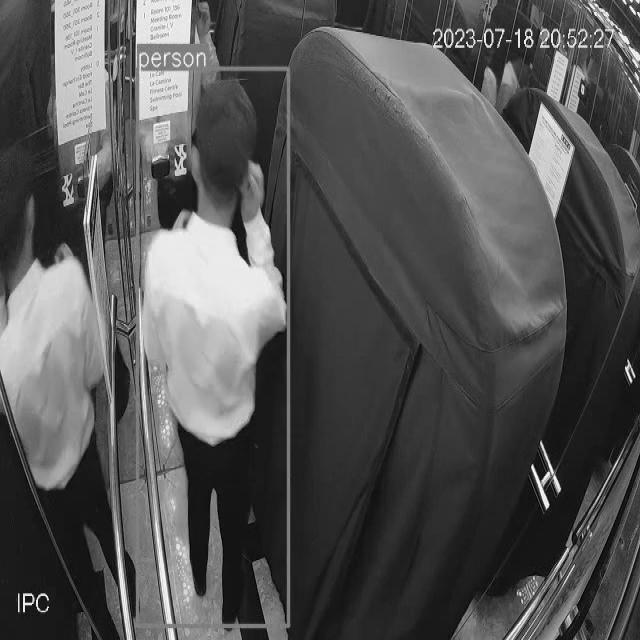person: (140, 74, 291, 625), (0, 164, 119, 621)
